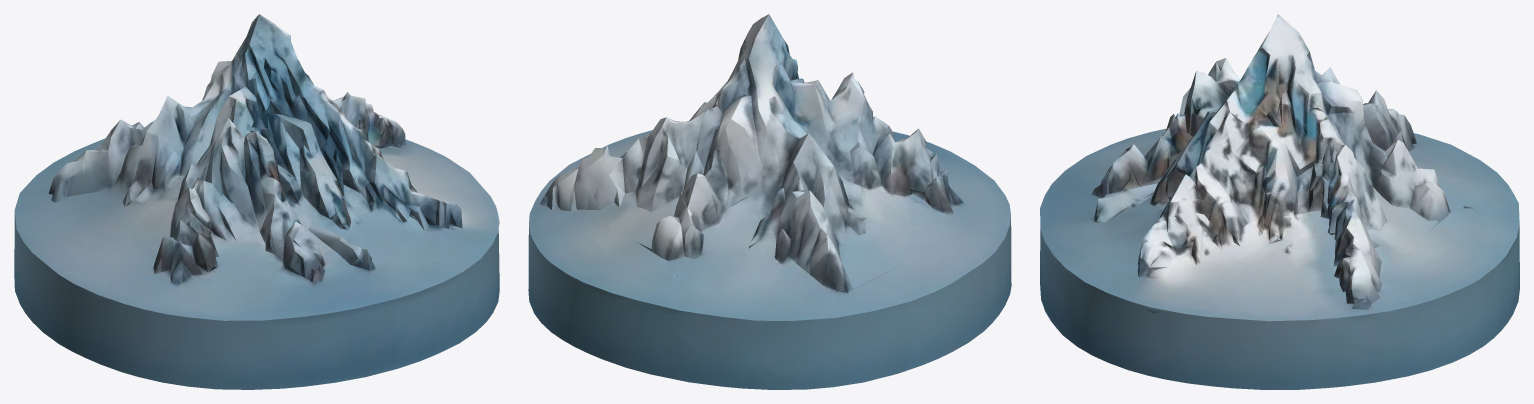
Rendered from m2IcePeakBg.glb.
The picture shows the model from 3 angles, left to right: view 1: azimuth 30°, elevation 25°; view 2: azimuth 150°, elevation 25°; view 3: azimuth 270°, elevation 25°; orthographic projection.
Visible parts, largest first — view 1: model; view 2: model; view 3: model.
Boxes of the visible parts, <box> form: model: <box>14,14,499,389</box>; model: <box>528,14,1011,389</box>; model: <box>1040,14,1519,389</box>.
Size of the model in its own units: 1.9 by 1.2 by 1.89.
1 material, 1 textured.
